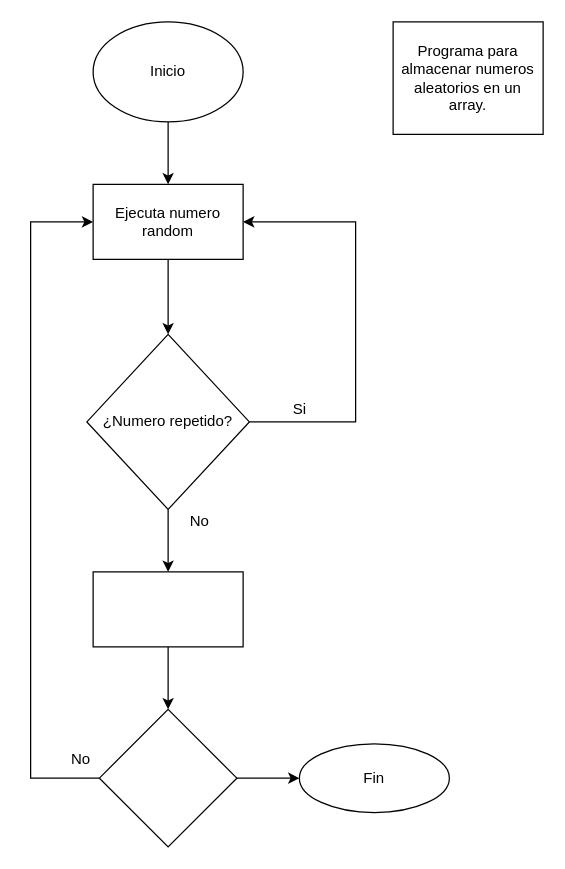
Some shapes in this 565 by 869 pixel diagram are drawn without their labels. The centre of each missing label's shape, as x and y in pixels:
Almacenar numero: the point at 167,609
¿Esta lleno el array?: the point at 167,777
